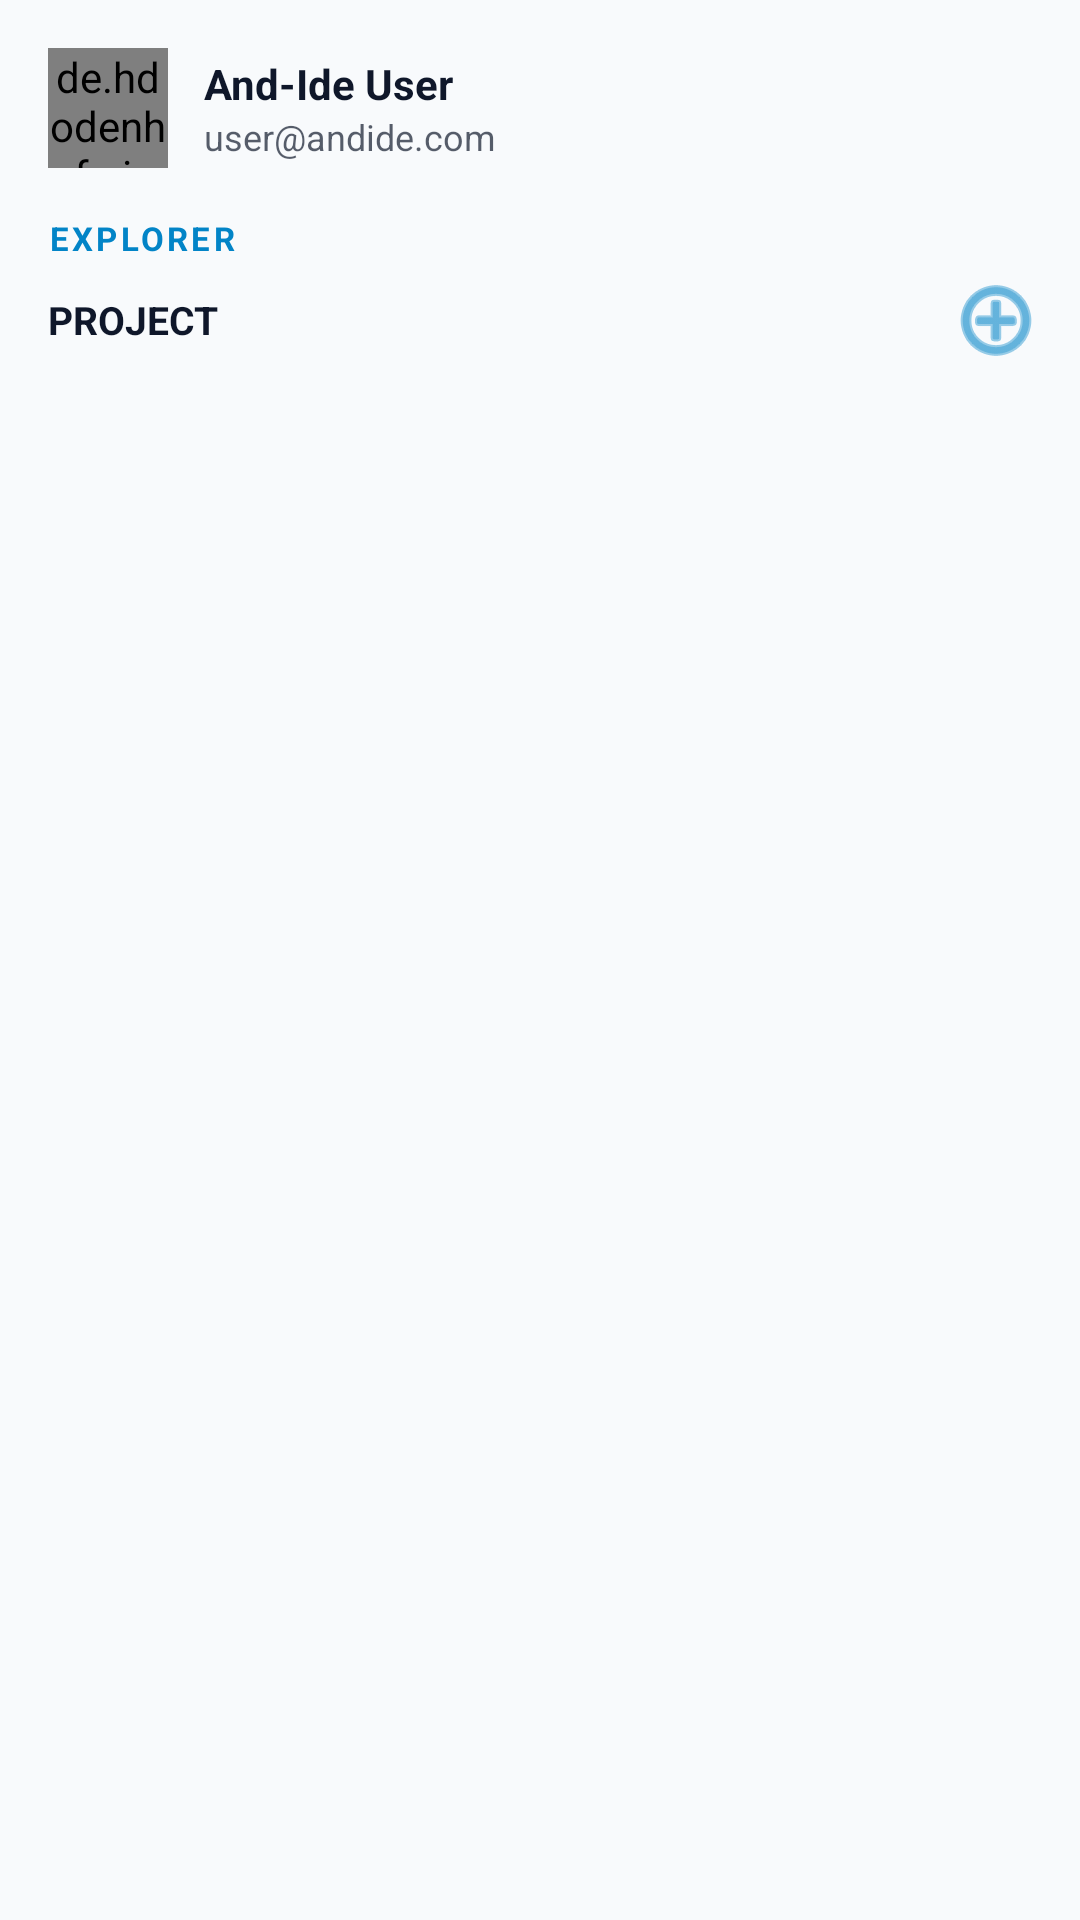

Named icons in this screenshot (1080x1920) and their centers, point (x, y):
add: point (996, 320)
